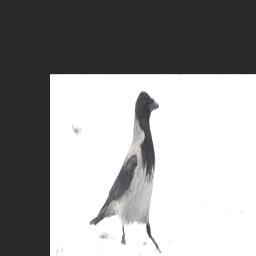Crow: (89, 89, 160, 253)
